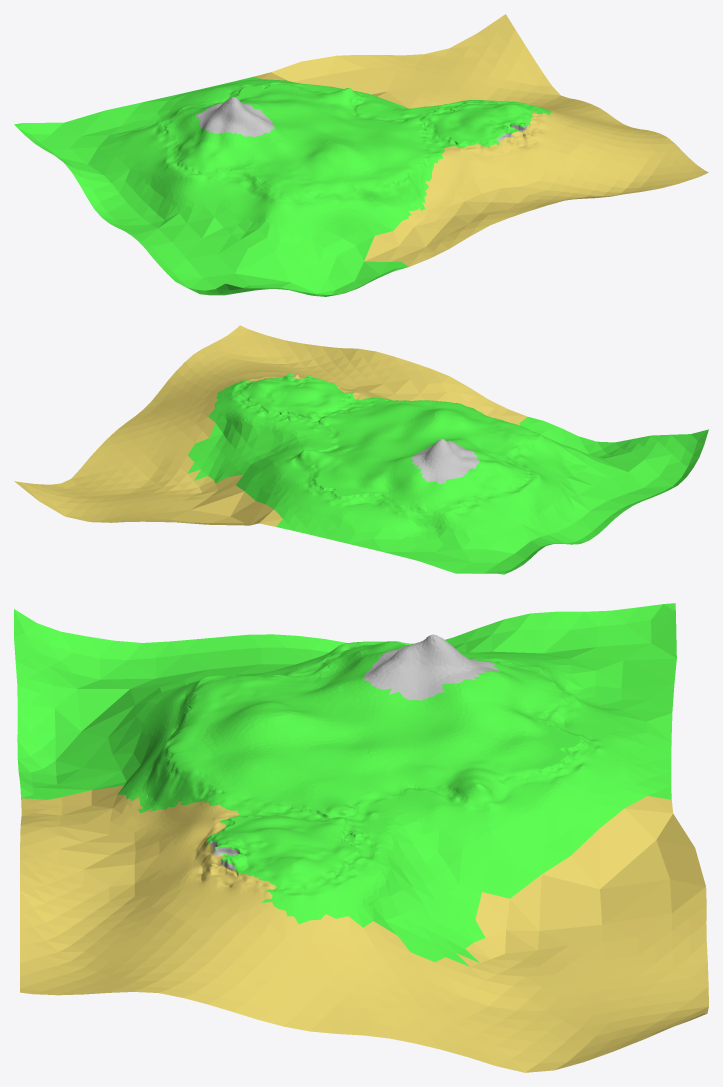
File: Island.fbx
The picture shows the model from 3 angles, top to bottom: view 1: azimuth 30°, elevation 25°; view 2: azimuth 150°, elevation 25°; view 3: azimuth 270°, elevation 25°; orthographic projection. The views are drawn at different scales.
Visible parts, largest first — view 1: Island; view 2: Island; view 3: Island.
Boxes of the visible parts, <box> form: Island: <box>14,14,708,296</box>; Island: <box>14,325,708,574</box>; Island: <box>14,603,708,1072</box>.
Bounding box in the file's own units: 282539 × 56314 × 213488.
